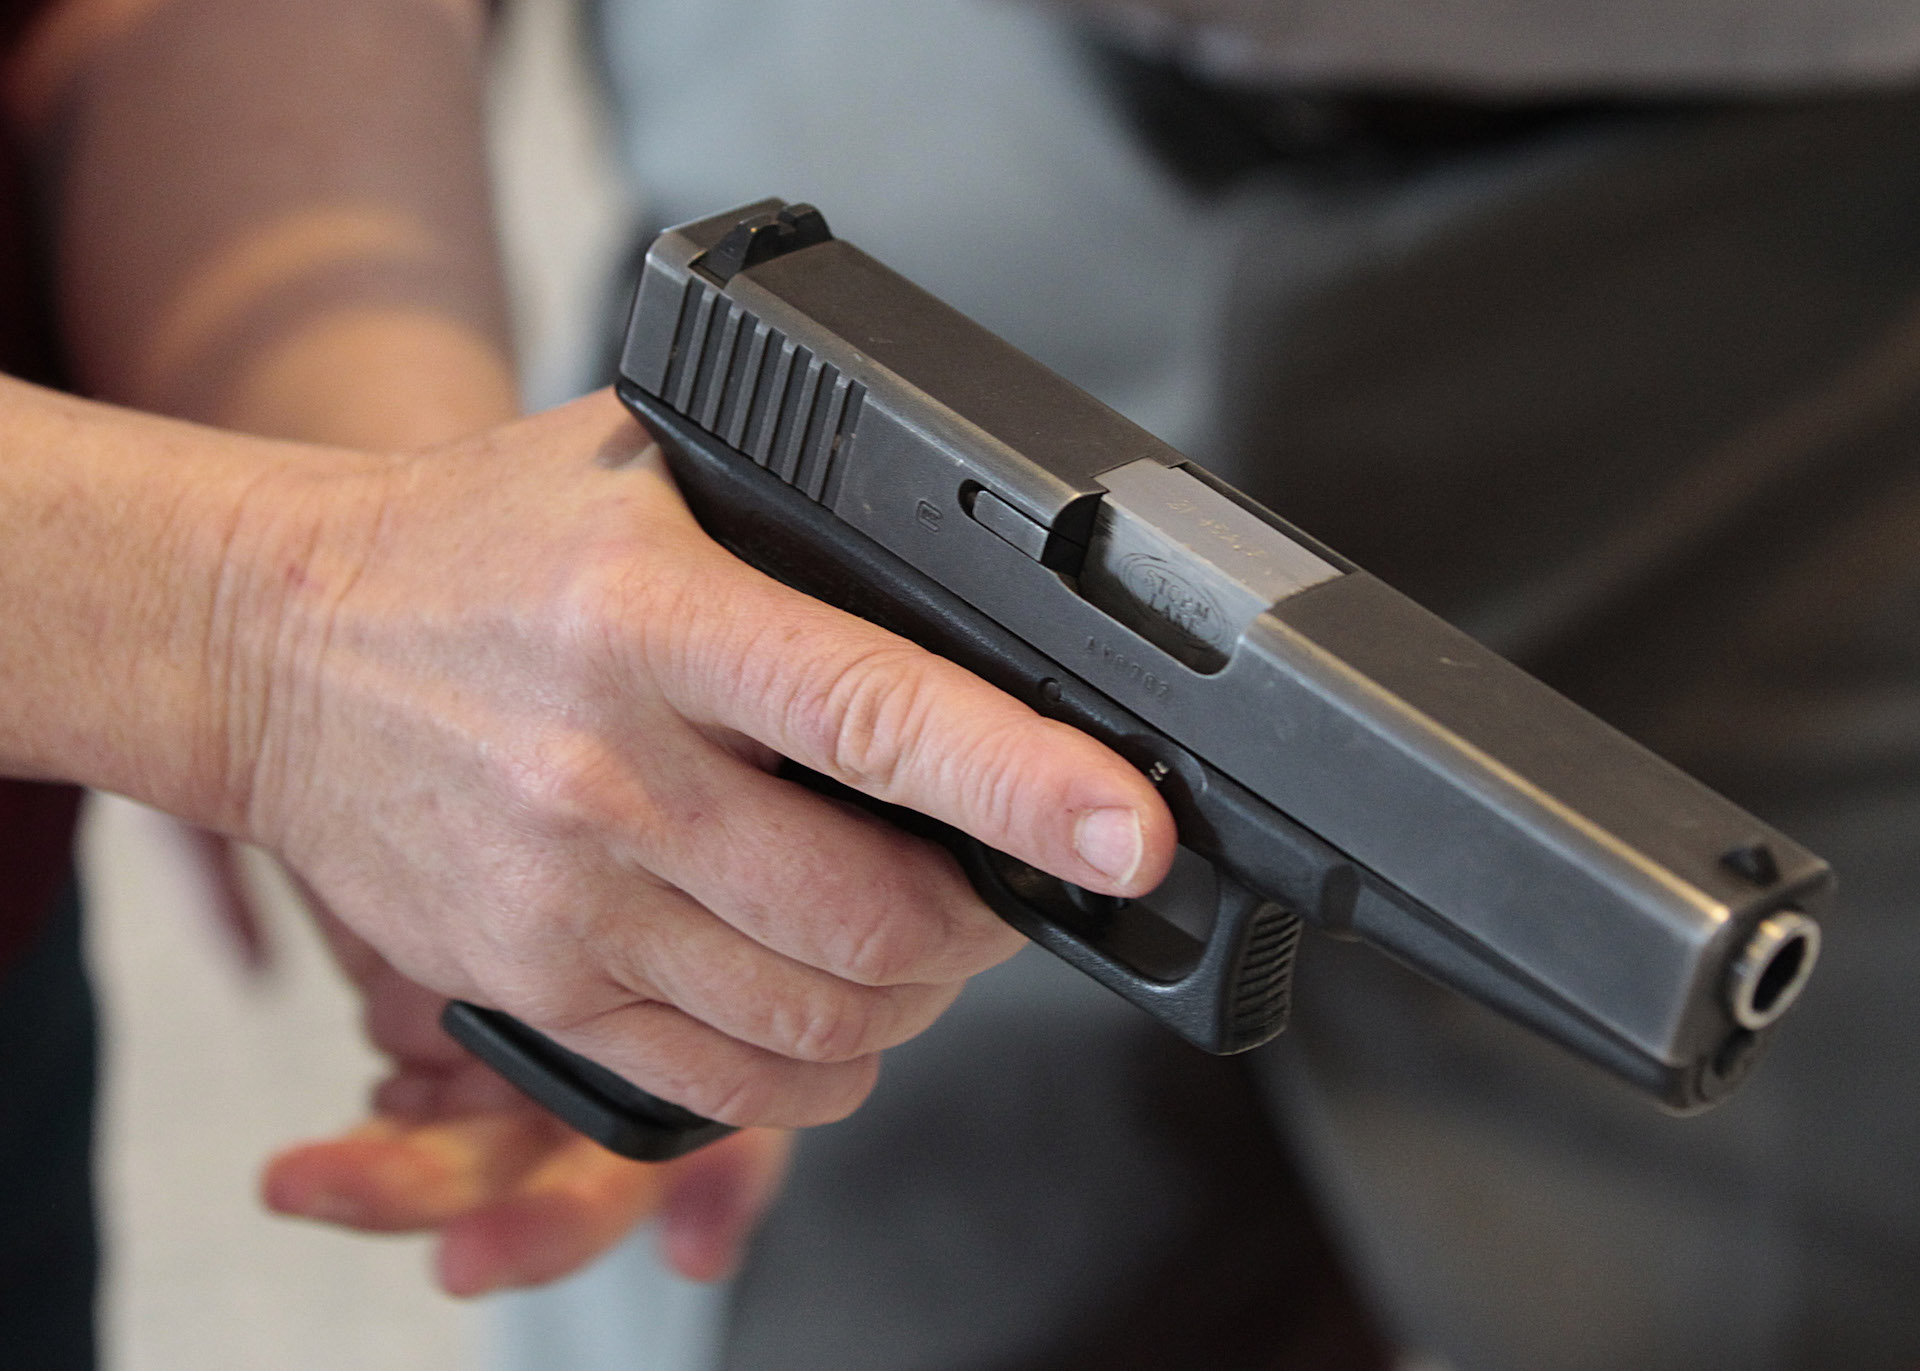pistol: (438, 190, 1844, 1172)
